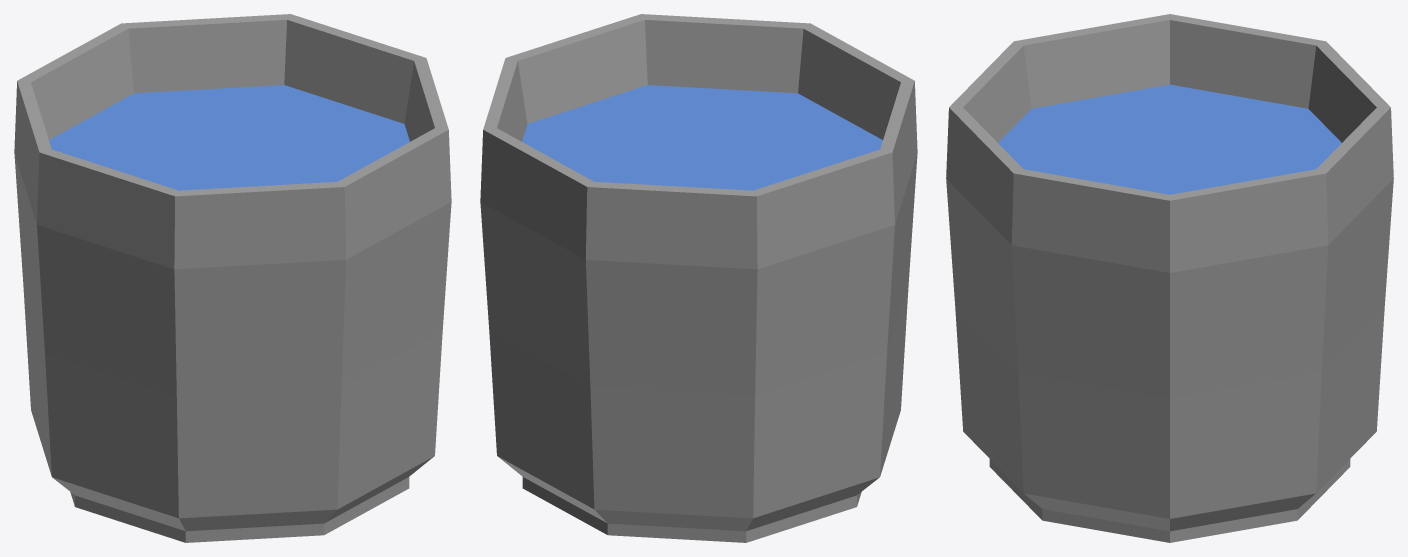
The model's file is BucketWater.fbx.
3 renders of one model, left to right at view 1: azimuth 30°, elevation 25°; view 2: azimuth 150°, elevation 25°; view 3: azimuth 270°, elevation 25°, orthographic.
Parts seen in each view (by area): view 1: BucketWater; view 2: BucketWater; view 3: BucketWater.
Boxes of the visible parts, <box> form: BucketWater: <box>14,14,451,542</box>; BucketWater: <box>480,14,917,542</box>; BucketWater: <box>946,14,1393,542</box>.
Size of the model in its own units: 94.46 by 83.65 by 94.46.
